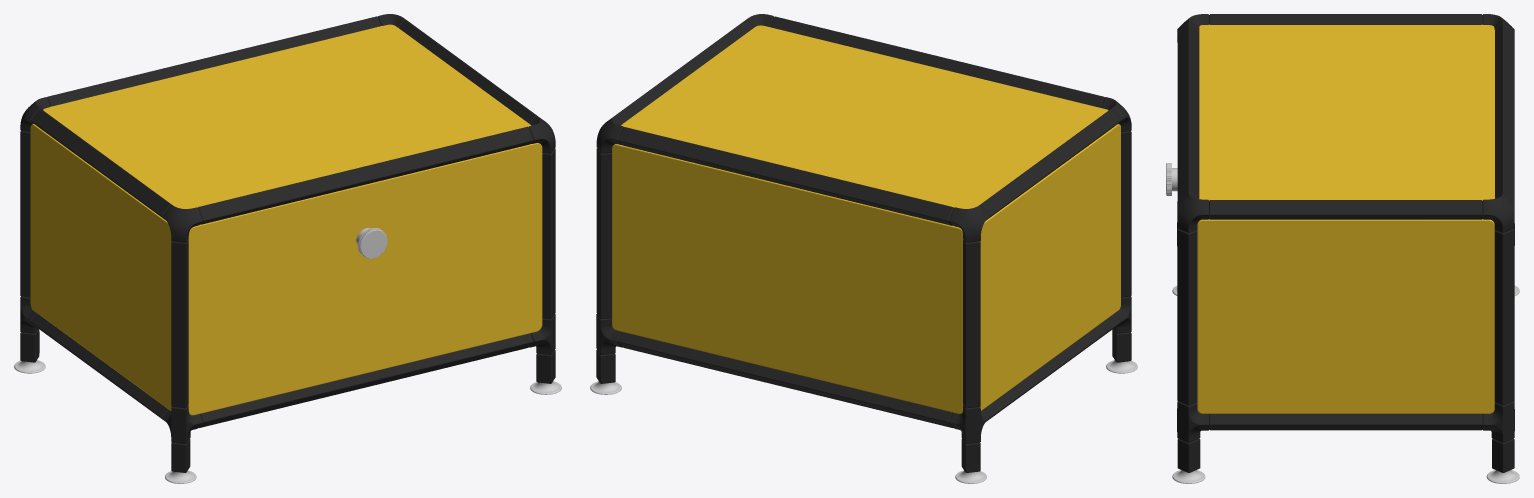
3 renders of one model, left to right at view 1: azimuth 30°, elevation 25°; view 2: azimuth 150°, elevation 25°; view 3: azimuth 270°, elevation 25°, orthographic. The views are drawn at different scales.
Visible parts, largest first — view 1: 479x329x229; view 2: 479x329x229; view 3: 479x329x229.
Boxes of the visible parts, x1,y1,x2,y2 form: 479x329x229: (14, 14, 561, 483); 479x329x229: (590, 14, 1137, 483); 479x329x229: (1166, 14, 1519, 483).
Bounding box in the file's own units: 0.5689 × 0.3683 × 0.4257.
